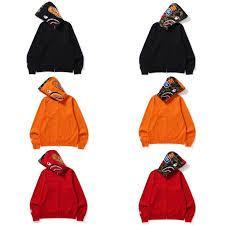sweater: (21, 148, 94, 224), (134, 75, 205, 153), (28, 74, 95, 156), (133, 149, 203, 225), (24, 0, 90, 79), (135, 2, 202, 78)
